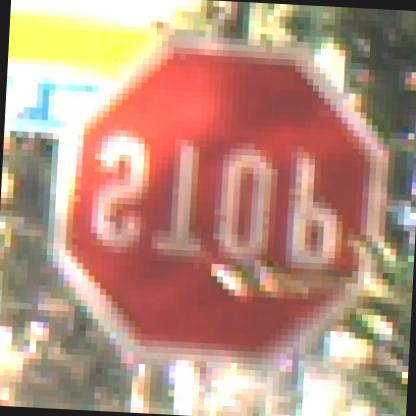stop: (46, 44, 388, 374)
